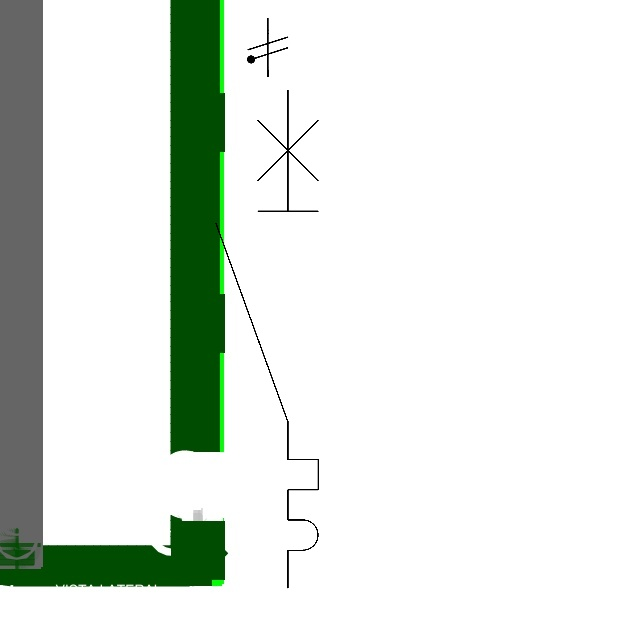interruptor_termomagnetico: (203, 77, 331, 601)
